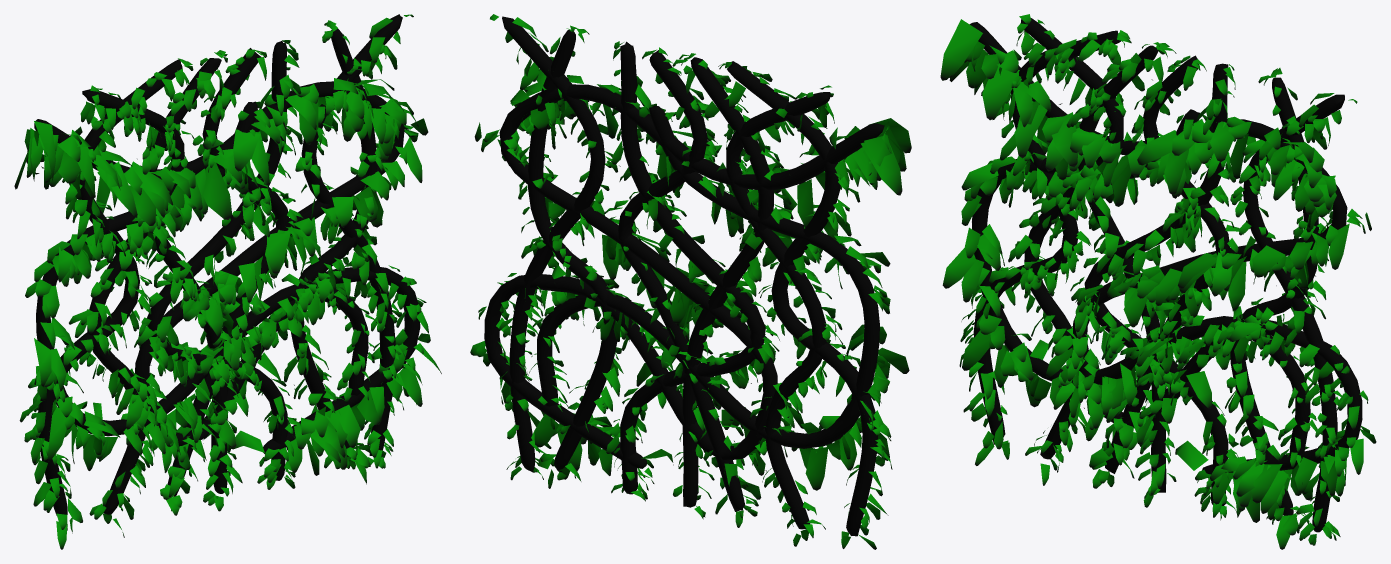
Rendered from lierre.fbx.
The picture shows the model from 3 angles, left to right: view 1: azimuth 30°, elevation 25°; view 2: azimuth 150°, elevation 25°; view 3: azimuth 330°, elevation 25°; orthographic projection. The views are drawn at different scales.
Parts seen in each view (by area): view 1: PM3D_Cylinder3D_2; view 2: PM3D_Cylinder3D_2; view 3: PM3D_Cylinder3D_2.
Boxes of the visible parts, bbox=[...] form: PM3D_Cylinder3D_2: bbox=[14, 14, 441, 549]; PM3D_Cylinder3D_2: bbox=[470, 14, 911, 549]; PM3D_Cylinder3D_2: bbox=[940, 14, 1376, 549].
Bounding box in the file's own units: 602 × 634 × 82.29.
